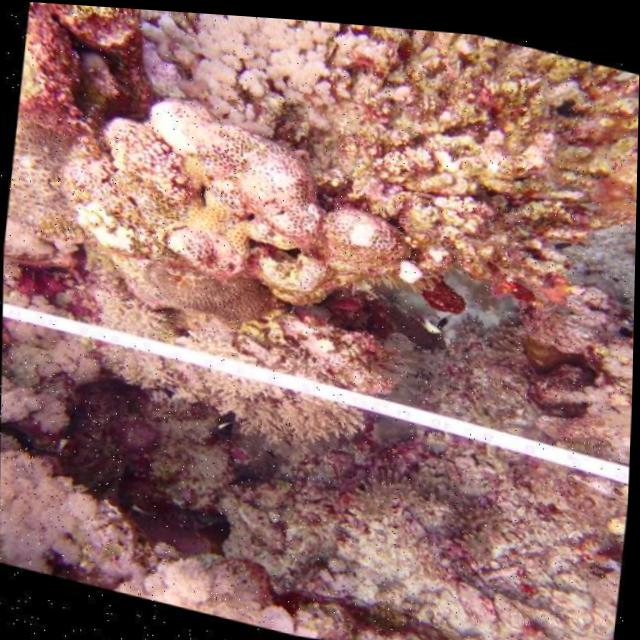Bleached Coral: (105, 6, 437, 180)
